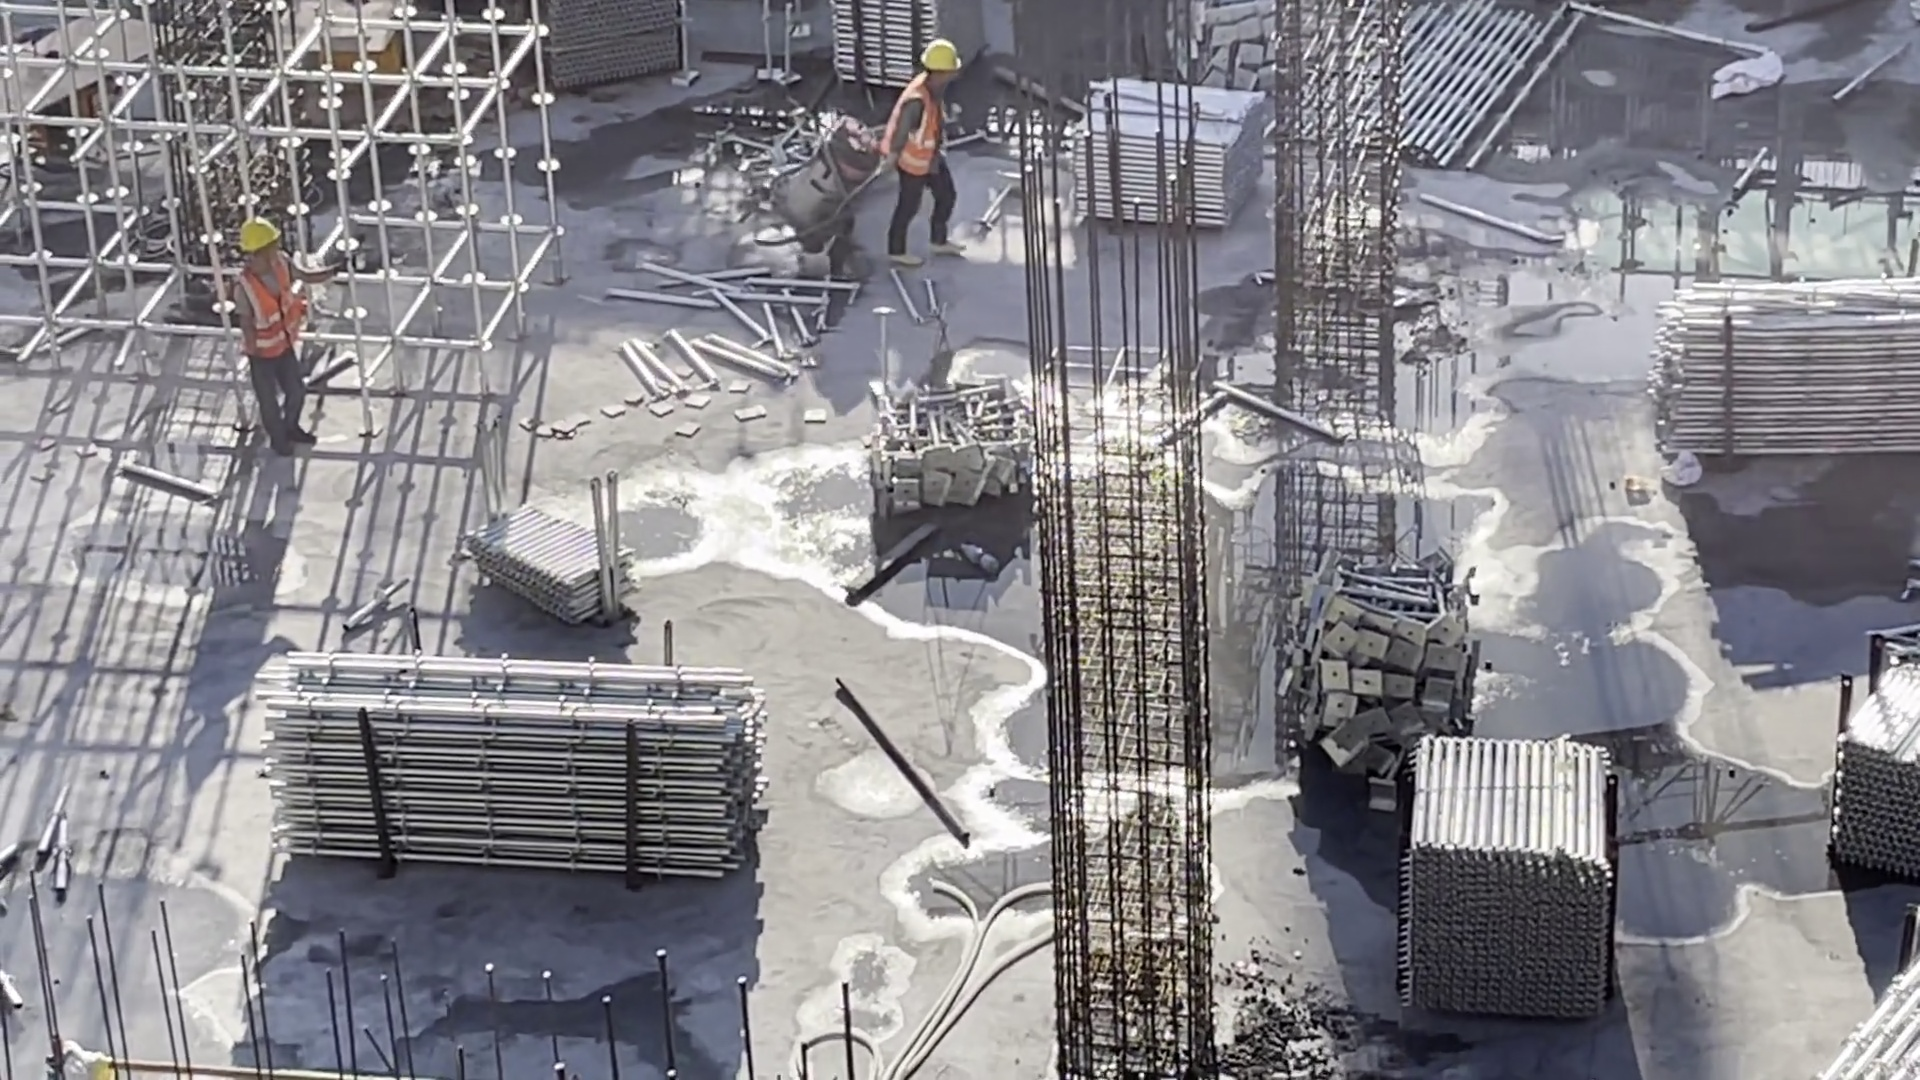cutter: (6, 11, 204, 174), (259, 1, 415, 116)
helmet: (232, 215, 291, 256), (912, 39, 970, 69)
person: (223, 217, 326, 449), (874, 38, 973, 271)
scaffold: (263, 647, 749, 890), (1397, 733, 1621, 1022), (1640, 281, 1920, 465), (1288, 565, 1477, 800), (1373, 8, 1613, 165), (1064, 85, 1268, 235), (1812, 651, 1920, 895), (878, 379, 1047, 513), (518, 1, 691, 113), (473, 502, 633, 622), (832, 1, 988, 89), (1800, 956, 1908, 1080), (1195, 1, 1328, 97)
vest: (879, 77, 958, 181), (244, 262, 309, 360)
